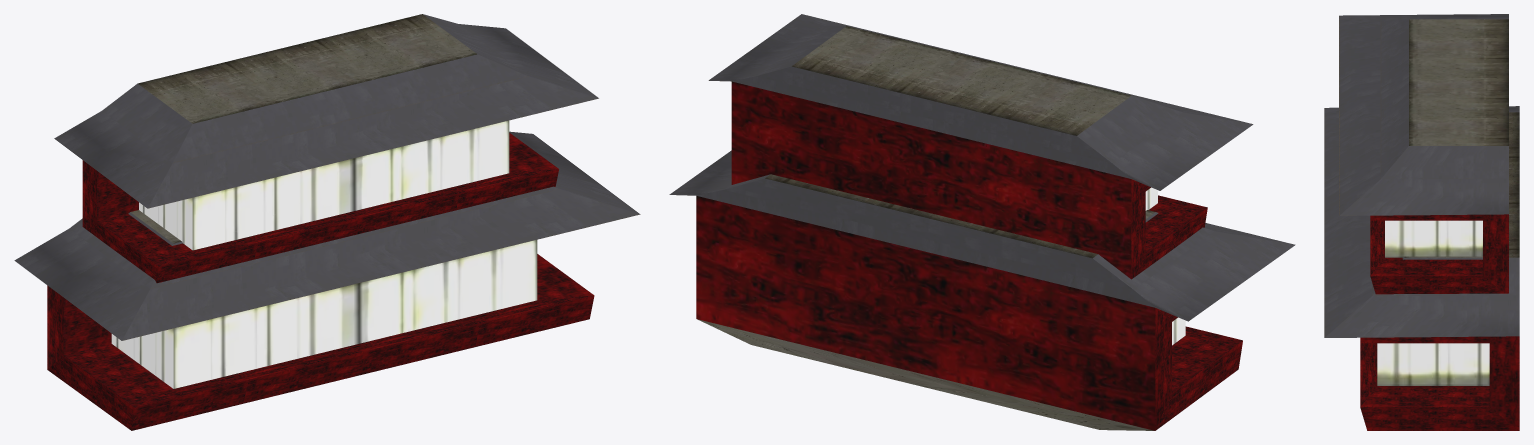
File: pm-wall-module-04.glb
3 views of the same model, side by side, from view 1: azimuth 30°, elevation 25°; view 2: azimuth 150°, elevation 25°; view 3: azimuth 270°, elevation 25° (orthographic). The views are drawn at different scales.
Visible parts, largest first — view 1: Wall_Module_04; view 2: Wall_Module_04; view 3: Wall_Module_04.
Part boxes in pixels (box(x1,y1,x2,y2)): Wall_Module_04: box(14, 14, 640, 430); Wall_Module_04: box(669, 14, 1295, 430); Wall_Module_04: box(1324, 14, 1519, 430).
Bounding box in the file's own units: 2.56 × 1.33 × 0.9191.
Materials: 1 (1 with a texture image).
